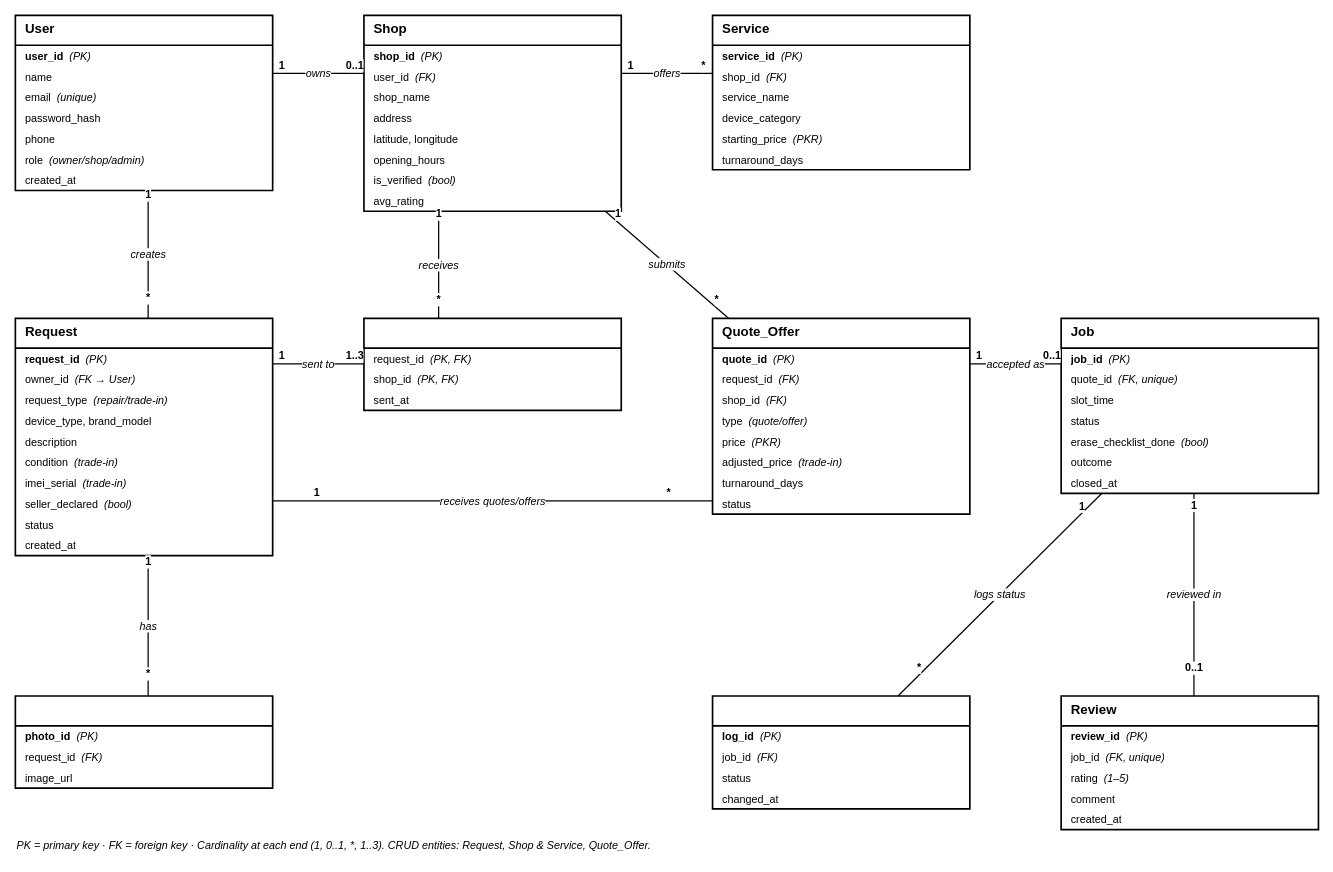
Some shapes in this 1333 by 872 pixel diagram are drawn without their labels. The box of each missing label's shape, as (x1, y1, x2, y2) in pixels:
Job_Status_Log: (711, 695, 970, 809)
Request_Photo: (14, 695, 273, 788)
Request_Shop: (363, 317, 622, 411)
